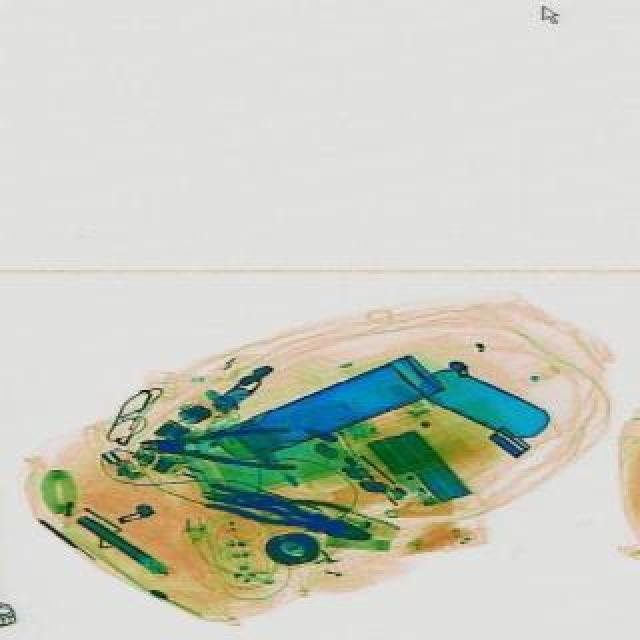wrench: (200, 478, 372, 546), (138, 424, 294, 468), (202, 482, 346, 528)
